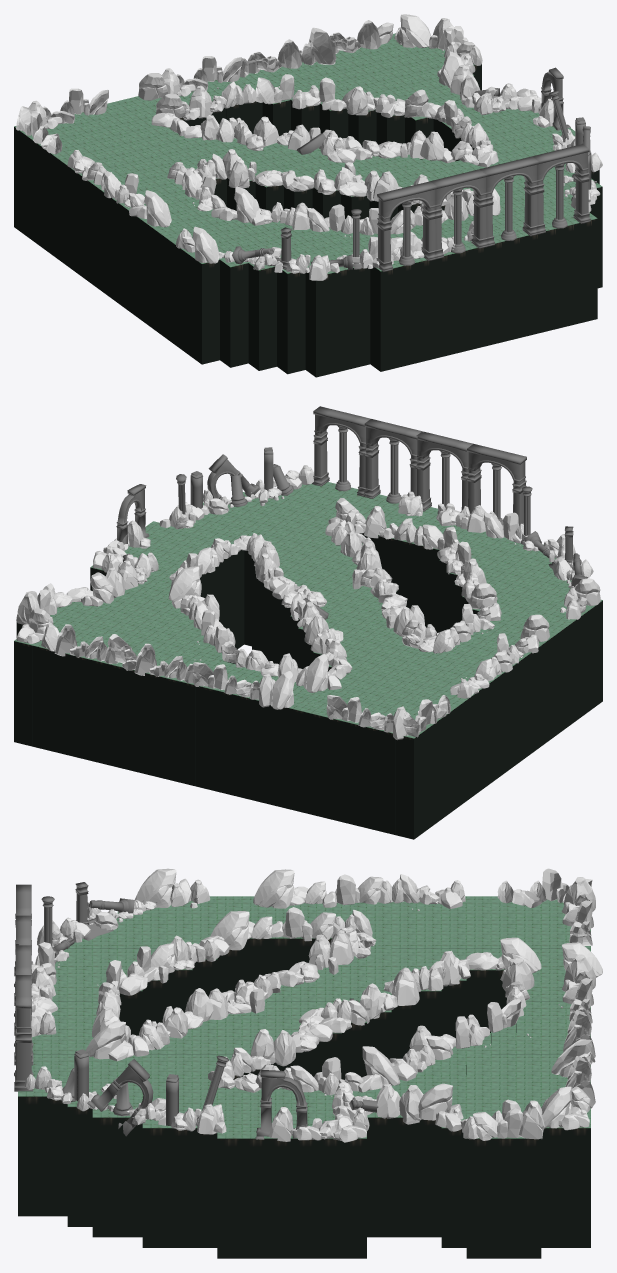
The model's file is Map_04.fbx.
The picture shows the model from 3 angles, top to bottom: view 1: azimuth 30°, elevation 25°; view 2: azimuth 150°, elevation 25°; view 3: azimuth 270°, elevation 25°; orthographic projection. The views are drawn at different scales.
Visible parts, largest first — view 1: Sea_Temple_Map_04_1, Sea_Temple_Map_04_1.002, Sea_Temple_Map_04_1.003; view 2: Sea_Temple_Map_04_1, Sea_Temple_Map_04_1.002, Sea_Temple_Map_04_1.003; view 3: Sea_Temple_Map_04_1, Sea_Temple_Map_04_1.002, Sea_Temple_Map_04_1.003.
Part boxes in pixels (x1,y1,x2,y2): Sea_Temple_Map_04_1: [14, 33, 602, 377]; Sea_Temple_Map_04_1.002: [16, 14, 602, 280]; Sea_Temple_Map_04_1.003: [232, 67, 596, 271]; Sea_Temple_Map_04_1: [14, 482, 602, 839]; Sea_Temple_Map_04_1.002: [16, 465, 600, 740]; Sea_Temple_Map_04_1.003: [116, 406, 587, 619]; Sea_Temple_Map_04_1: [18, 896, 590, 1258]; Sea_Temple_Map_04_1.002: [24, 868, 602, 1142]; Sea_Temple_Map_04_1.003: [14, 882, 378, 1139].
Size of the model in its own units: 9364 by 3639 by 9406.
